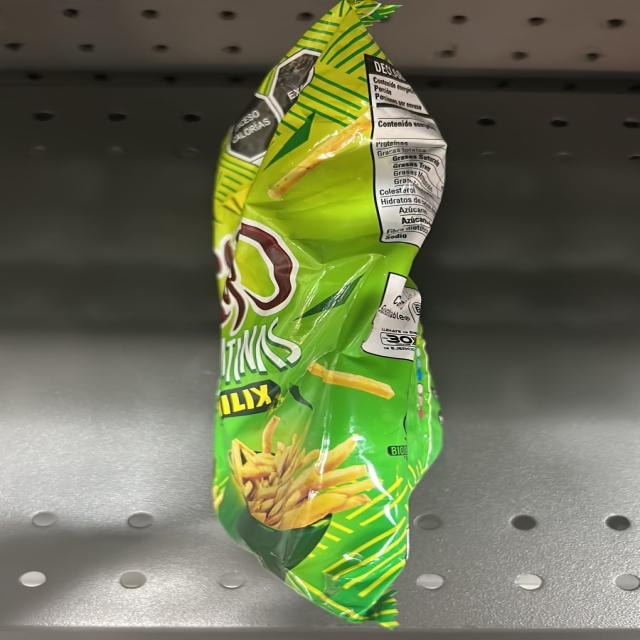chipsJalapeno: (215, 0, 441, 626)
